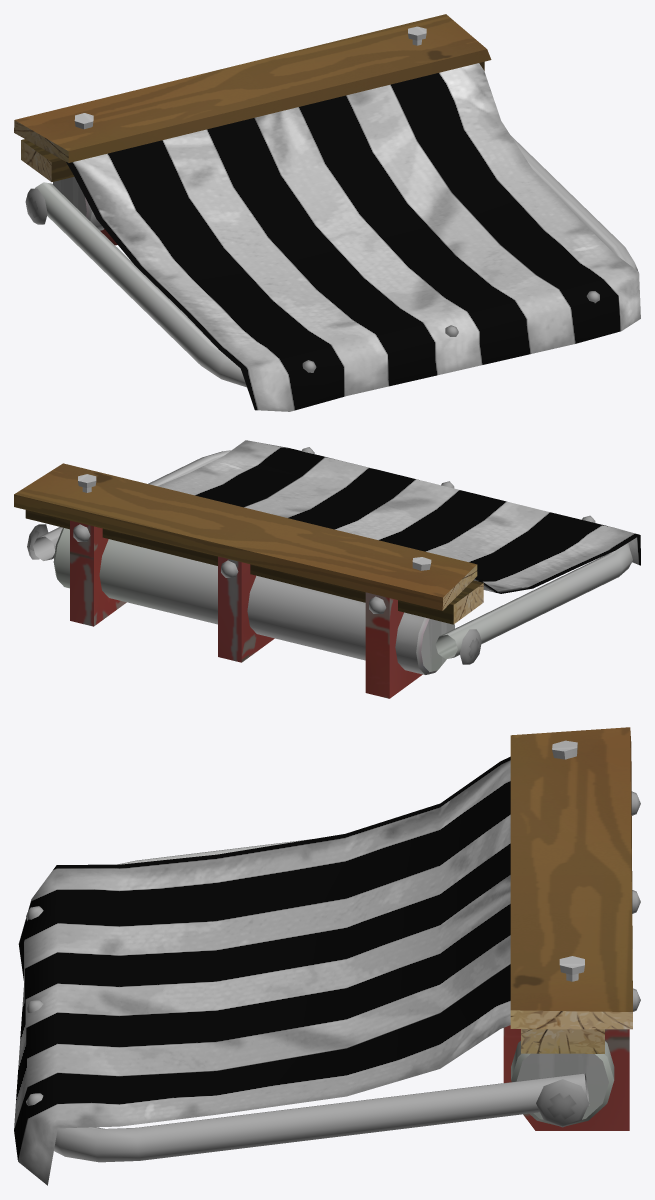
File: obj_manmade_scraproof02.fbx
3 renders of one model, top to bottom at view 1: azimuth 30°, elevation 25°; view 2: azimuth 150°, elevation 25°; view 3: azimuth 270°, elevation 25°, orthographic. The views are drawn at different scales.
Visible parts, largest first — view 1: obj_manmade_scraproof02_lod0; view 2: obj_manmade_scraproof02_lod0; view 3: obj_manmade_scraproof02_lod0.
Boxes of the visible parts, box(x1,y1,x2,y2) form: obj_manmade_scraproof02_lod0: box(14, 14, 640, 411); obj_manmade_scraproof02_lod0: box(14, 440, 640, 698); obj_manmade_scraproof02_lod0: box(14, 727, 640, 1185).
Size of the model in its own units: 8.05 by 2.62 by 7.28.
